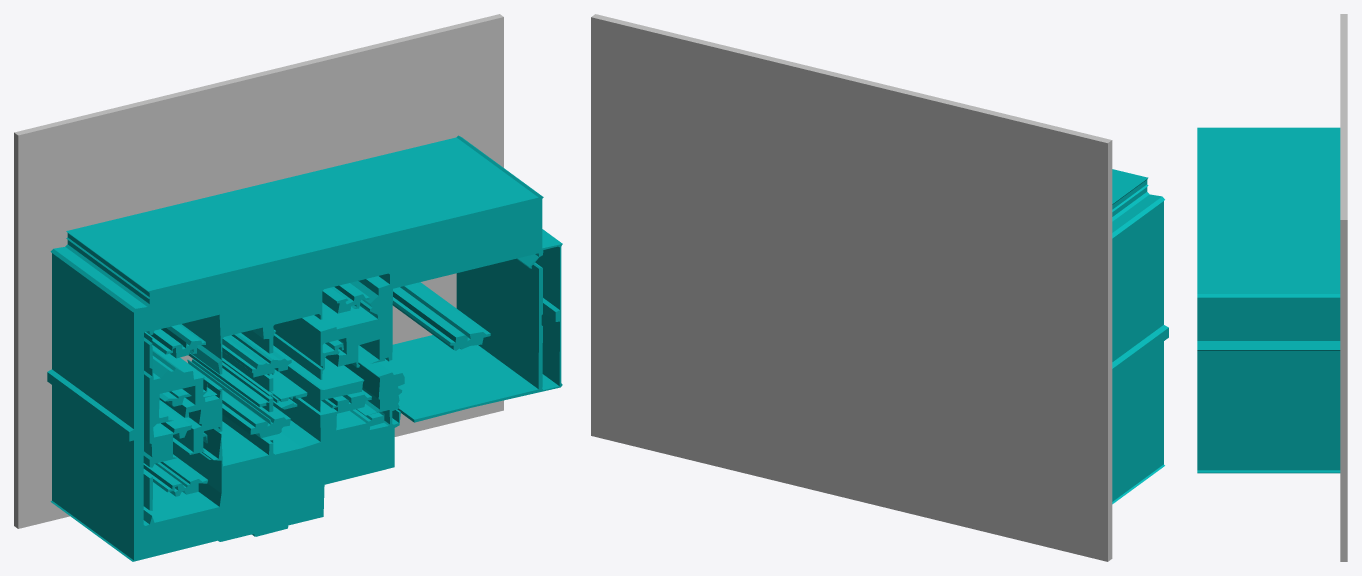
3 views of the same model, side by side, from view 1: azimuth 30°, elevation 25°; view 2: azimuth 150°, elevation 25°; view 3: azimuth 270°, elevation 25° (orthographic). The views are drawn at different scales.
Parts seen in each view (by area): view 1: world; view 2: world; view 3: world.
Boxes of the visible parts, <box> form: world: <box>14,14,562,561</box>; world: <box>591,14,1168,561</box>; world: <box>1197,14,1347,561</box>.
Size of the model in its own units: 10.23 by 7.92 by 3.15.
